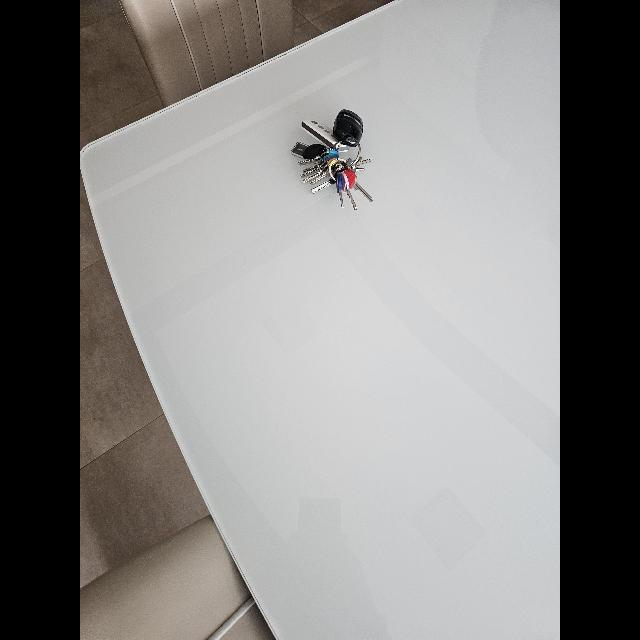Keys: (292, 114, 374, 208)
